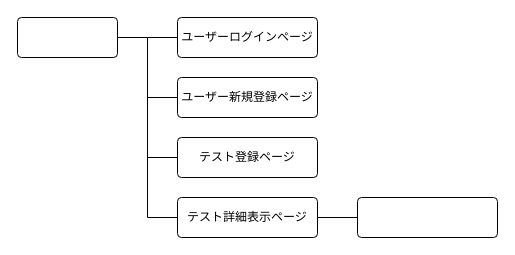
This 515x255 diagram has some shape labels left out. The shapes that lost their labels are listed below. From the top down, each one's centre as x and y in pixels, then its label:
the point at 67,37: 一覧ページ
the point at 427,217: テスト情報編集ページ
